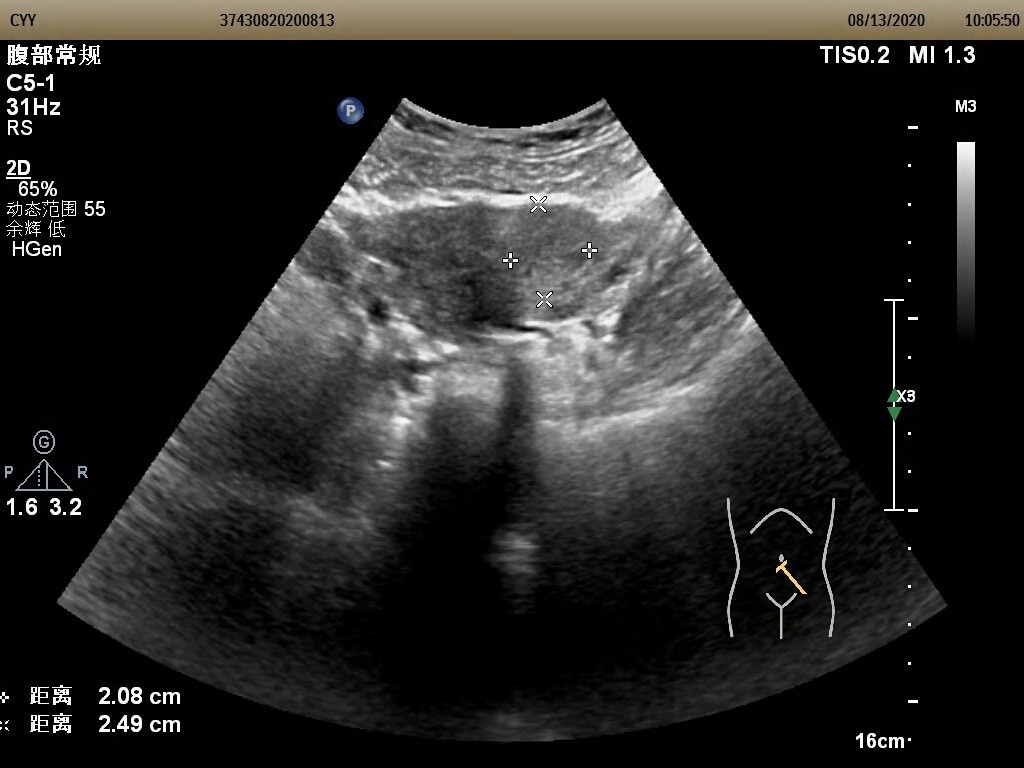肌瘤: (510, 206, 592, 300)
